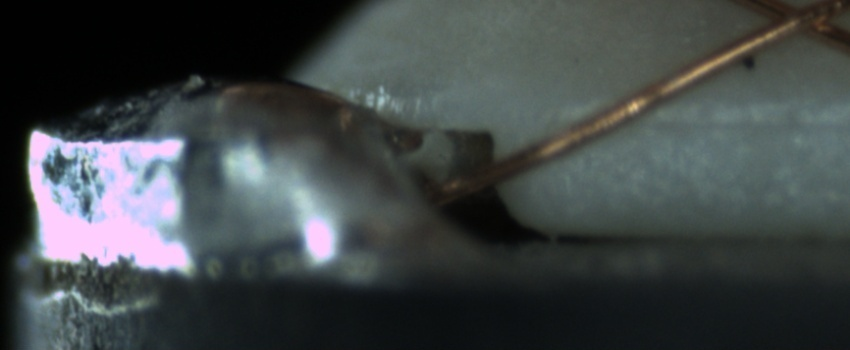CL: (736, 1, 846, 46)
DL: (609, 88, 847, 155)
